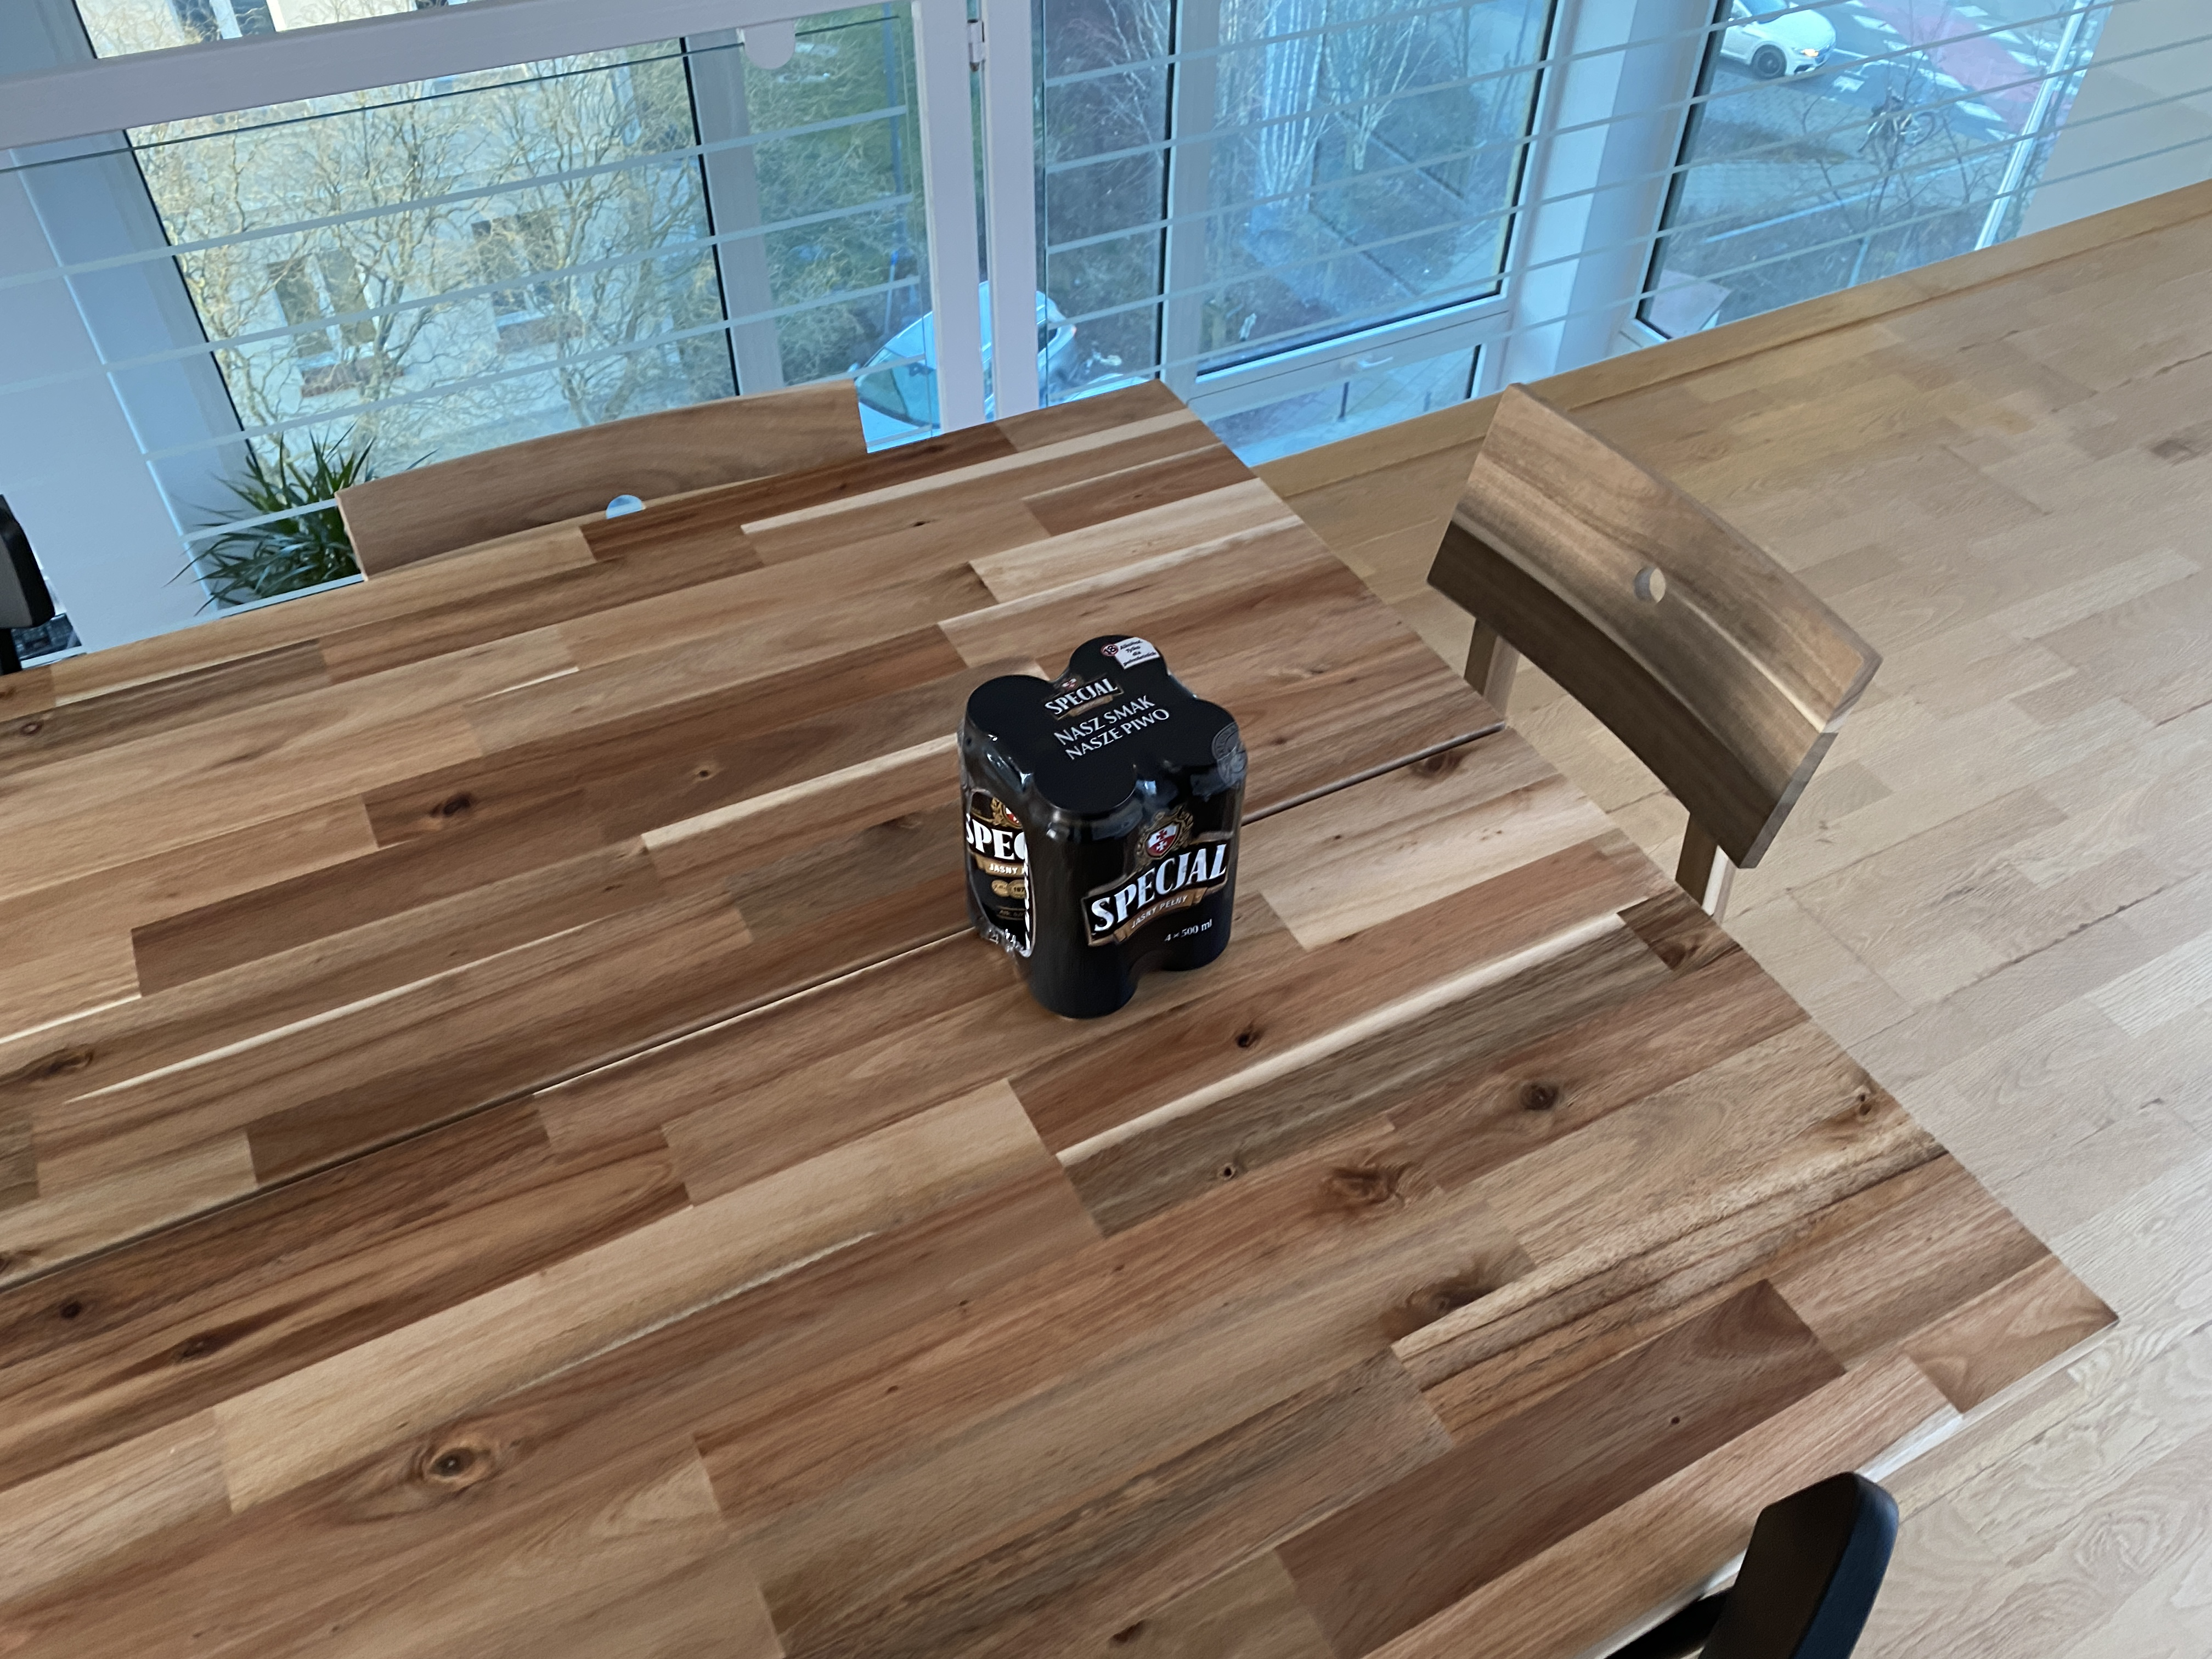specjal: (956, 624, 1245, 1019)
